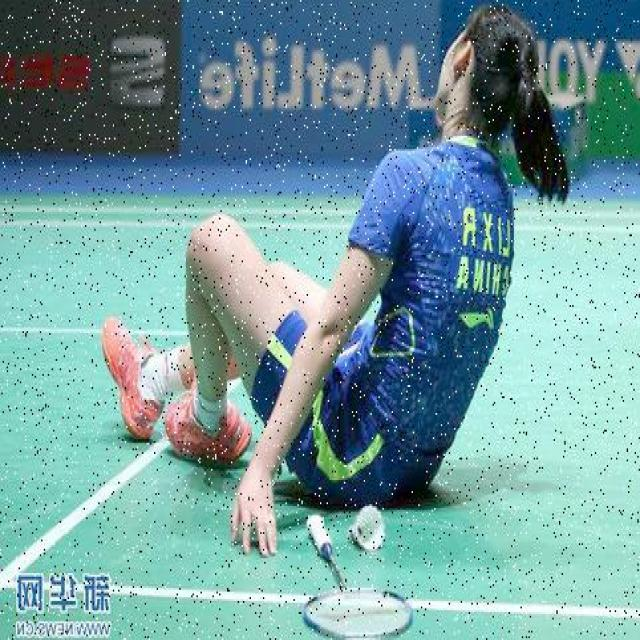fall: (118, 21, 555, 497)
